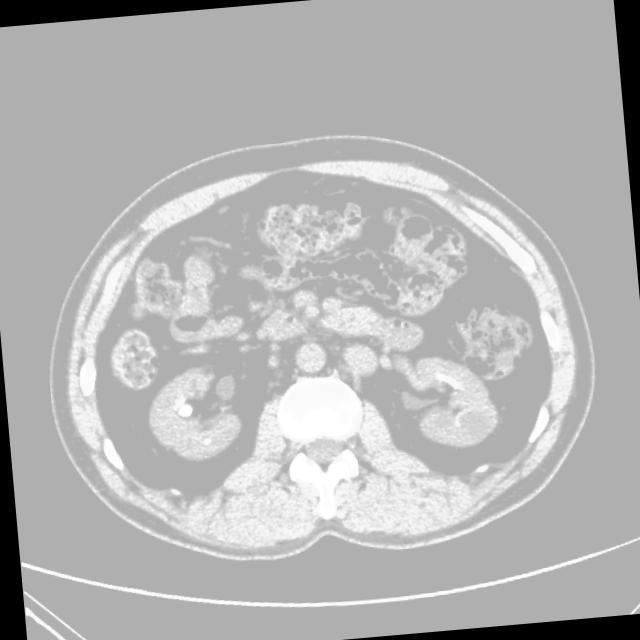STONE: (99, 251, 533, 531)
